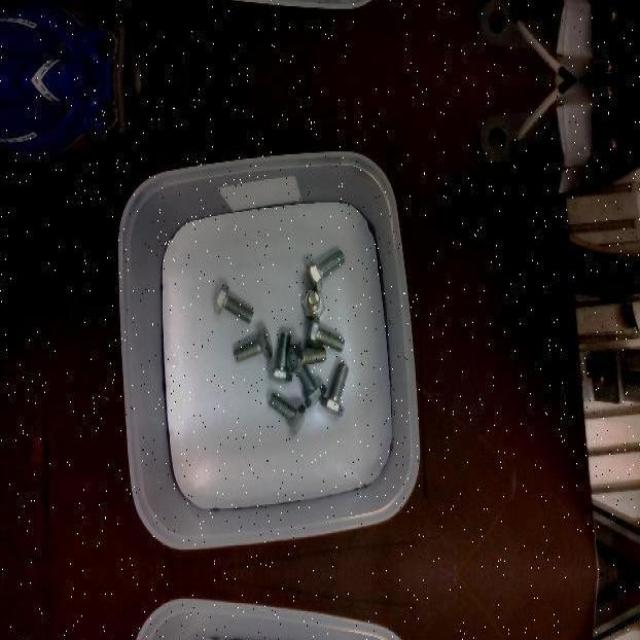screw: (306, 250, 346, 293), (214, 282, 255, 323), (268, 392, 306, 436), (321, 362, 350, 416), (234, 325, 274, 362), (306, 316, 346, 353), (287, 344, 327, 374)
